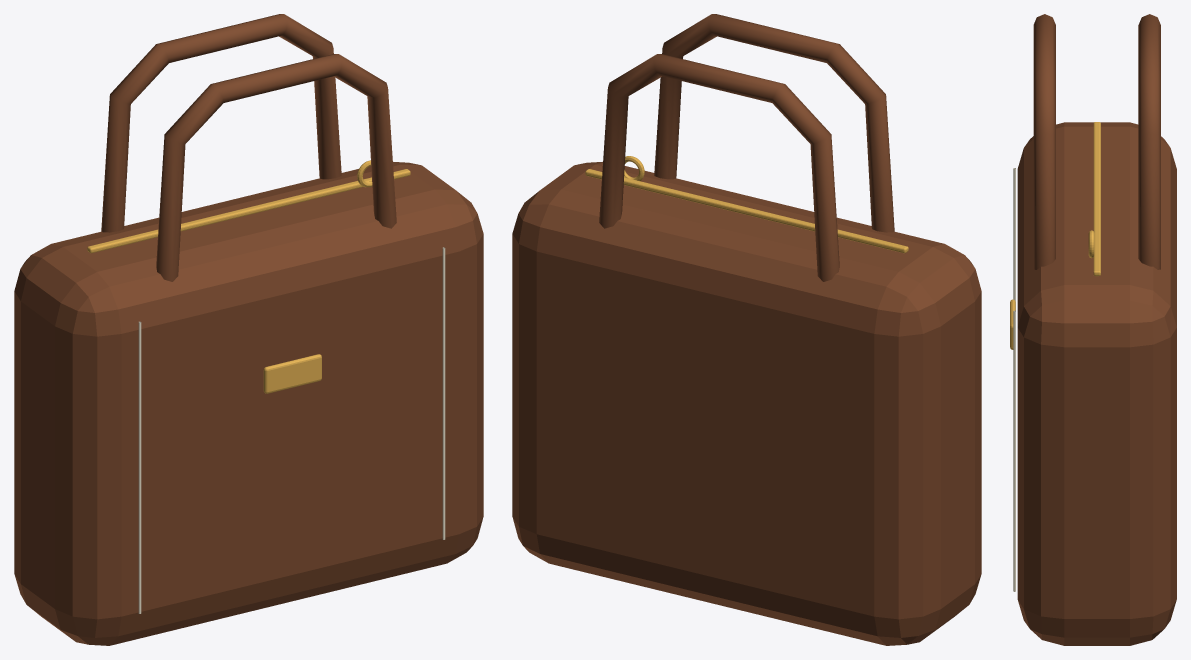
Rendered from Bolso.fbx.
The picture shows the model from 3 angles, left to right: view 1: azimuth 30°, elevation 25°; view 2: azimuth 150°, elevation 25°; view 3: azimuth 270°, elevation 25°; orthographic projection. The views are drawn at different scales.
Visible parts, largest first — view 1: Cuerpo_bolso, Asa.001, Asa.002, Cremallera, Placa, Costura, Costura.001; view 2: Cuerpo_bolso, Asa.002, Asa.001, Cremallera; view 3: Cuerpo_bolso, Asa.001, Asa.002, Cremallera, Costura.001, Costura.
Boxes of the visible parts, <box> form: Cuerpo_bolso: <box>14,162,483,645</box>; Asa.001: <box>156,54,396,281</box>; Asa.002: <box>101,14,341,232</box>; Cremallera: <box>87,169,410,253</box>; Placa: <box>263,354,321,393</box>; Costura: <box>138,321,141,613</box>; Costura.001: <box>442,247,445,539</box>; Cuerpo_bolso: <box>512,162,981,645</box>; Asa.002: <box>599,54,839,281</box>; Asa.001: <box>654,14,894,232</box>; Cremallera: <box>585,169,908,253</box>; Cuerpo_bolso: <box>1017,122,1176,645</box>; Asa.001: <box>1033,14,1055,269</box>; Asa.002: <box>1138,14,1160,269</box>; Cremallera: <box>1093,122,1100,276</box>; Costura.001: <box>1013,310,1015,591</box>; Costura: <box>1013,168,1015,310</box>.
Bounding box in the file's own units: 25 × 30.57 × 8.9.
